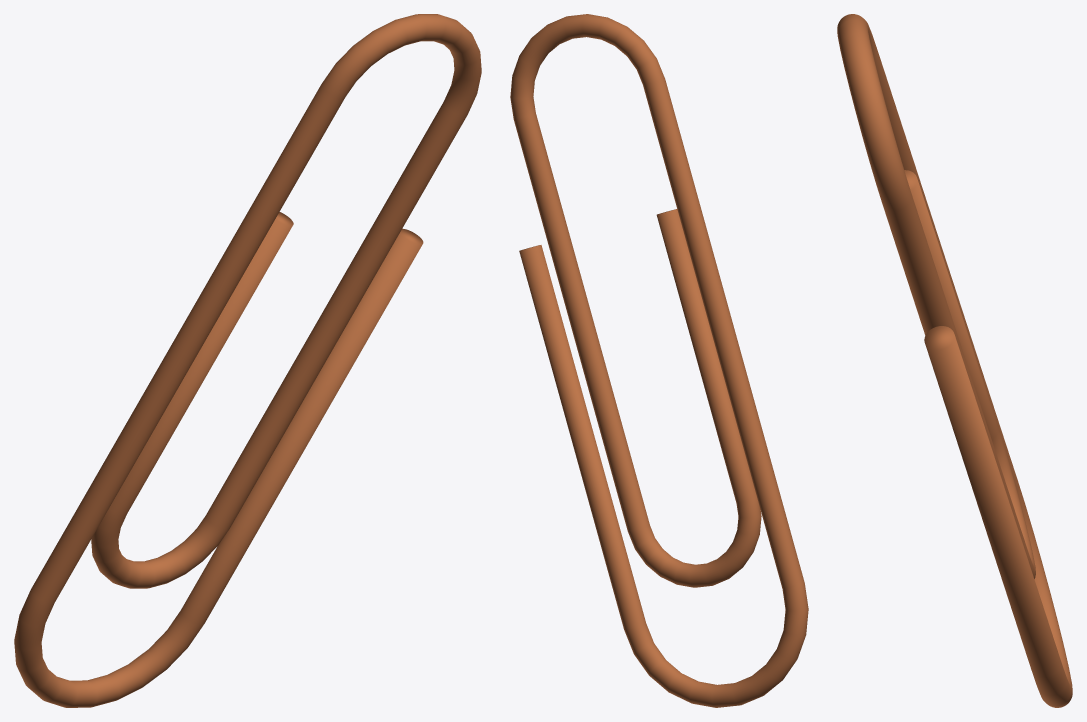
The picture shows the model from 3 angles, left to right: view 1: azimuth 30°, elevation 25°; view 2: azimuth 150°, elevation 25°; view 3: azimuth 270°, elevation 25°; orthographic projection. The views are drawn at different scales.
Visible parts, largest first — view 1: Cylinder.016; view 2: Cylinder.016; view 3: Cylinder.016.
Boxes of the visible parts, x1,y1,x2,y2 form: Cylinder.016: (14, 14, 481, 707); Cylinder.016: (510, 14, 808, 707); Cylinder.016: (837, 14, 1072, 707).
Size of the model in its own units: 0.6581 by 1.08 by 0.2936.
